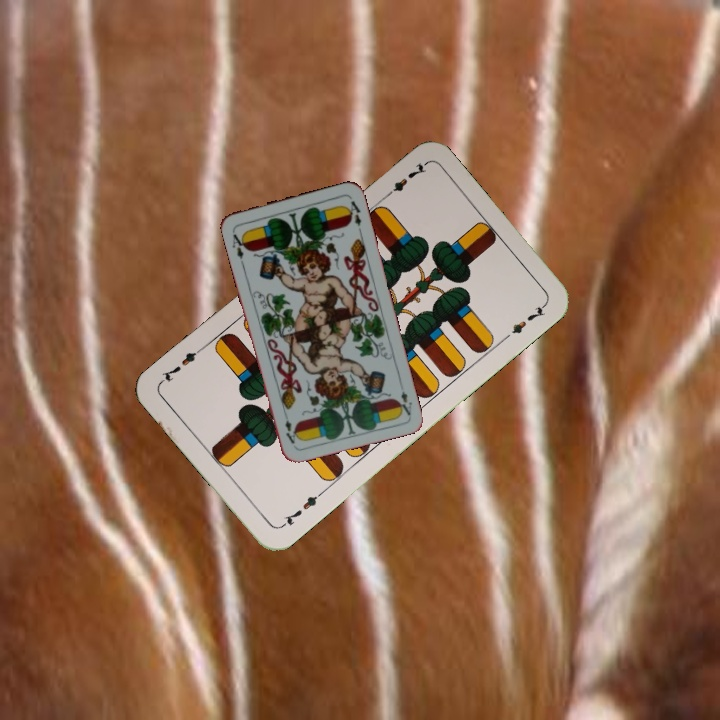E7: (379, 158, 429, 202), (277, 487, 326, 530)
EA: (393, 378, 414, 418), (228, 227, 249, 262)
